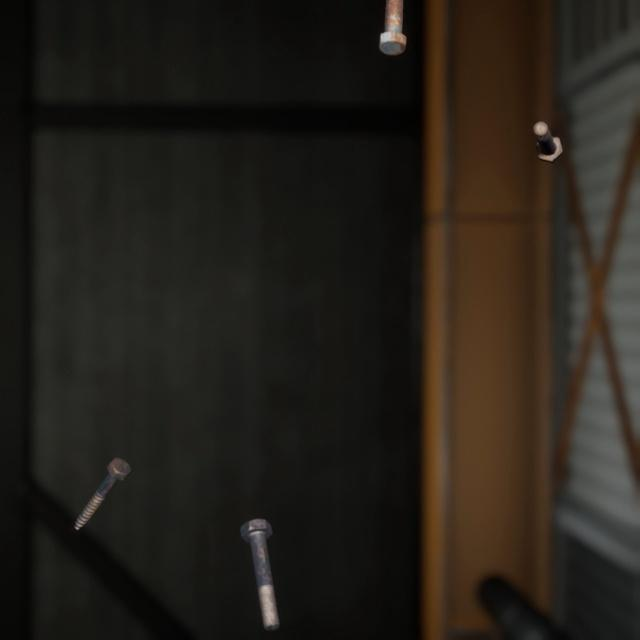bolt: (235, 491, 284, 611), (69, 431, 135, 512), (374, 0, 411, 55), (528, 103, 567, 154)
